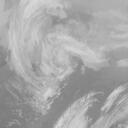cyclone: (24, 34, 83, 83)
